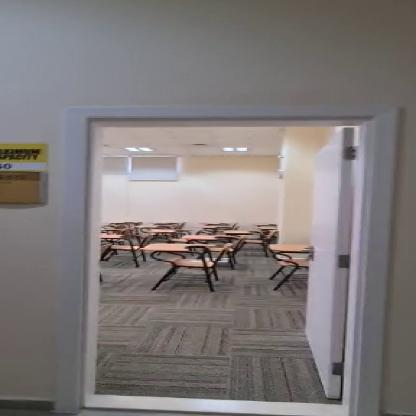open: (47, 78, 386, 416)
